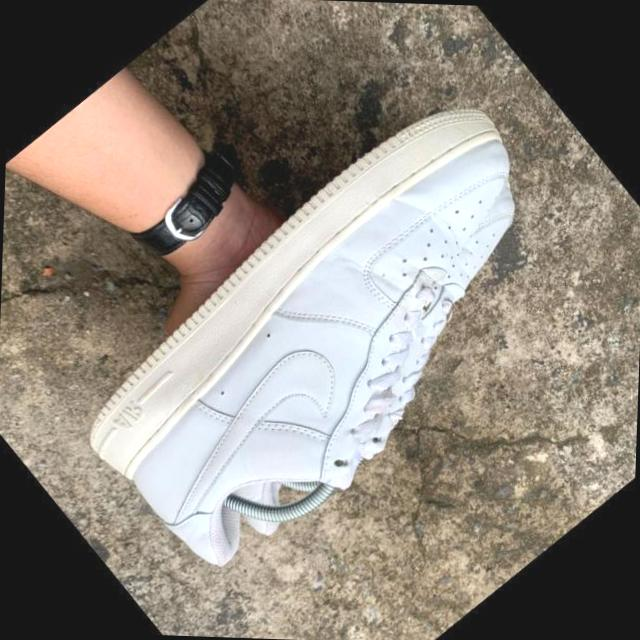nike_fake_airforce: (49, 64, 624, 613)
